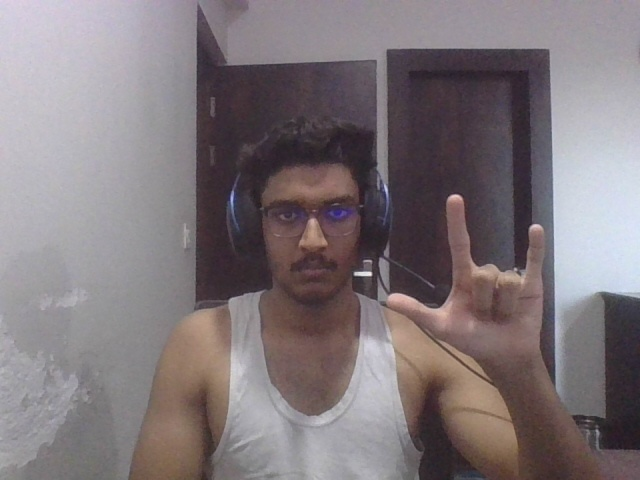I love You: (382, 189, 563, 368)
